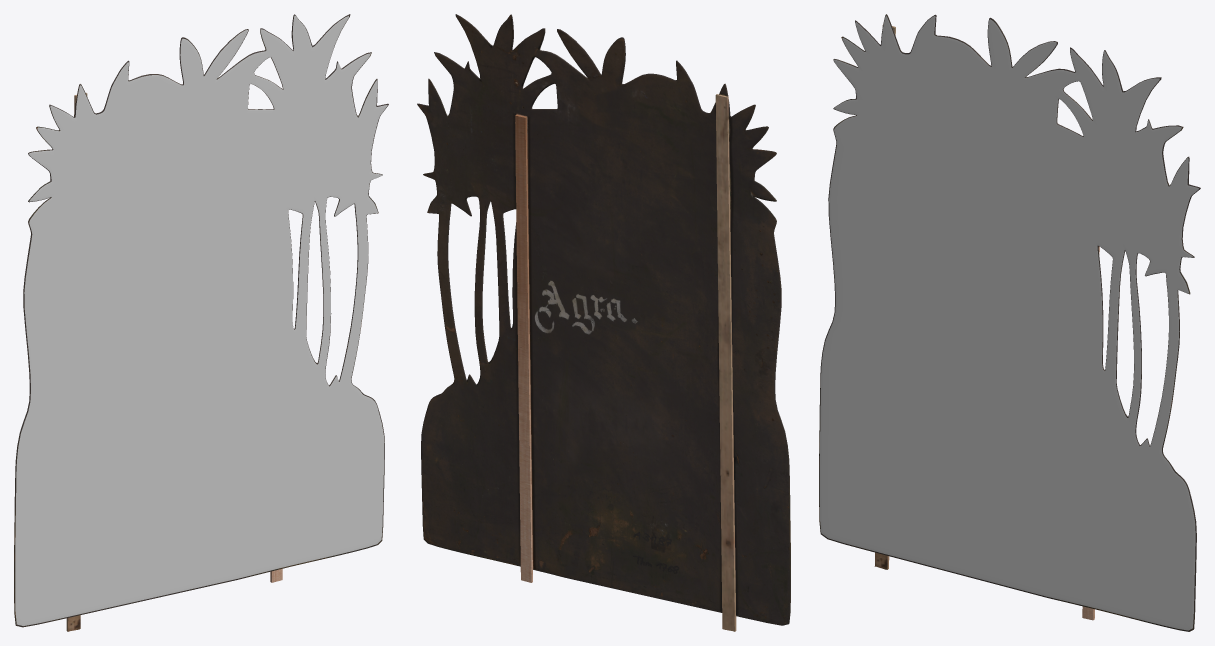
3 renders of one model, left to right at view 1: azimuth 30°, elevation 25°; view 2: azimuth 150°, elevation 25°; view 3: azimuth 330°, elevation 25°, orthographic. The views are drawn at different scales.
Visible parts, largest first — view 1: kulisse; view 2: kulisse, stick1, stick2; view 3: kulisse.
Part boxes in pixels (x1,y1,x2,y2): kulisse: (14,14,388,627); kulisse: (417,14,790,625); stick1: (715,94,736,631); stick2: (515,114,532,582); kulisse: (819,14,1200,631).
Size of the model in its own units: 68.89 by 99.74 by 0.7046.
